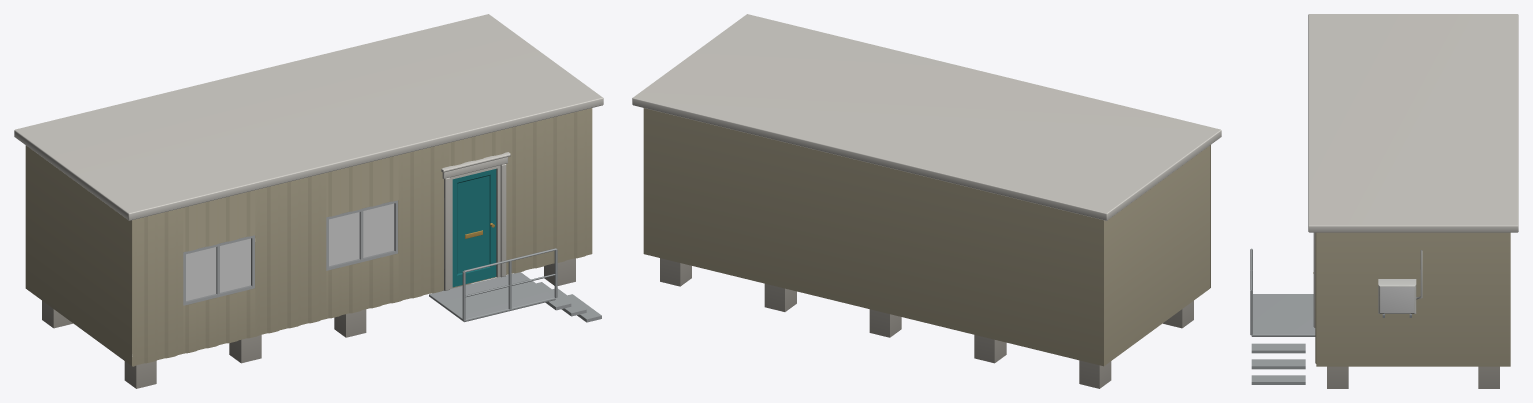
File: PortableFL.fbx
3 views of the same model, side by side, from view 1: azimuth 30°, elevation 25°; view 2: azimuth 150°, elevation 25°; view 3: azimuth 270°, elevation 25° (orthographic). The views are drawn at different scales.
Visible parts, largest first — view 1: PortableFL; view 2: PortableFL; view 3: PortableFL.
Boxes of the visible parts, x1,y1,x2,y2 form: PortableFL: (14,14,603,388); PortableFL: (632,14,1221,388); PortableFL: (1250,14,1518,388).
Bounding box in the file's own units: 9.48 × 3.56 × 4.97.
